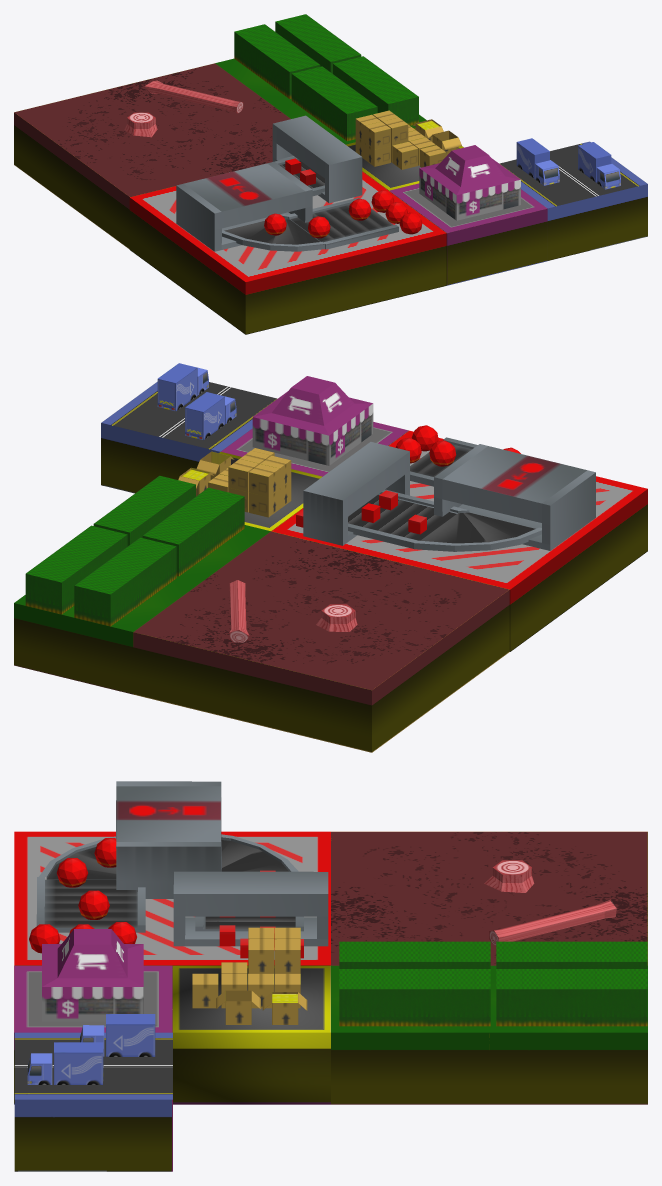
Rendered from tofuscene06.gltf.
The picture shows the model from 3 angles, top to bottom: view 1: azimuth 30°, elevation 25°; view 2: azimuth 150°, elevation 25°; view 3: azimuth 270°, elevation 25°; orthographic projection. The views are drawn at different scales.
Visible parts, largest first — view 1: bLand.021, bProcessing.007, bTransport.004, bRetail.003, Cube.085, Cube.129, Cube.108, bFarm_plant.001, bFarm_plant.004, bFarm_plant.002, Cube.083, bFarm_plant.003 (+12 smaller); view 2: bLand.021, bProcessing.007, Cube.085, bTransport.004, bFarm.052, Cube.129, Cube.108, bFarm_plant.004, bFarm_plant.001, bFarm_plant.003, bFarm_plant.002, Cube.109 (+14 smaller); view 3: bLand.021, bTransport.004, bPackaging.004, bFarm.053, bFarm.052, bProcessing.007, Cube.085, Cube.108, bFarm_plant.002, bFarm_plant.003, Cube.129, bRetail.003 (+20 smaller).
Part boxes in pixels (bbox=[...]): bLand.021: bbox=[14, 63, 290, 249]; bProcessing.007: bbox=[129, 171, 446, 334]; bTransport.004: bbox=[499, 141, 647, 260]; bRetail.003: bbox=[389, 183, 547, 285]; Cube.085: bbox=[176, 161, 312, 251]; Cube.129: bbox=[419, 145, 520, 220]; Cube.108: bbox=[272, 115, 362, 203]; bFarm_plant.001: bbox=[291, 66, 377, 141]; bFarm_plant.004: bbox=[234, 24, 320, 98]; bFarm_plant.002: bbox=[333, 56, 418, 125]; Cube.083: bbox=[286, 197, 398, 249]; bFarm_plant.003: bbox=[275, 14, 361, 73]; bLand.021: bbox=[133, 531, 509, 752]; bProcessing.007: bbox=[272, 430, 647, 651]; Cube.085: bbox=[434, 444, 595, 550]; bTransport.004: bbox=[101, 381, 277, 493]; bFarm.052: bbox=[14, 576, 201, 694]; Cube.129: bbox=[252, 376, 373, 465]; Cube.108: bbox=[303, 442, 409, 545]; bFarm_plant.004: bbox=[74, 537, 176, 626]; bFarm_plant.001: bbox=[142, 487, 244, 576]; bFarm_plant.003: bbox=[25, 525, 127, 614]; bFarm_plant.002: bbox=[93, 475, 195, 546]; Cube.109: bbox=[414, 508, 541, 551]; bLand.021: bbox=[331, 831, 647, 965]; bTransport.004: bbox=[14, 1032, 172, 1171]; bPackaging.004: bbox=[172, 965, 330, 1104]; bFarm.053: bbox=[331, 965, 489, 1104]; bFarm.052: bbox=[489, 965, 647, 1104]; bProcessing.007: bbox=[14, 831, 330, 965]; Cube.085: bbox=[116, 781, 221, 898]; Cube.108: bbox=[173, 871, 328, 946]; bFarm_plant.002: bbox=[339, 969, 490, 1026]; bFarm_plant.003: bbox=[496, 969, 647, 1026]; Cube.129: bbox=[42, 929, 143, 1021]; bRetail.003: bbox=[14, 965, 172, 1104].
Size of the model in its own units: 4 by 0.9425 by 4.
49 materials, 49 textured.
